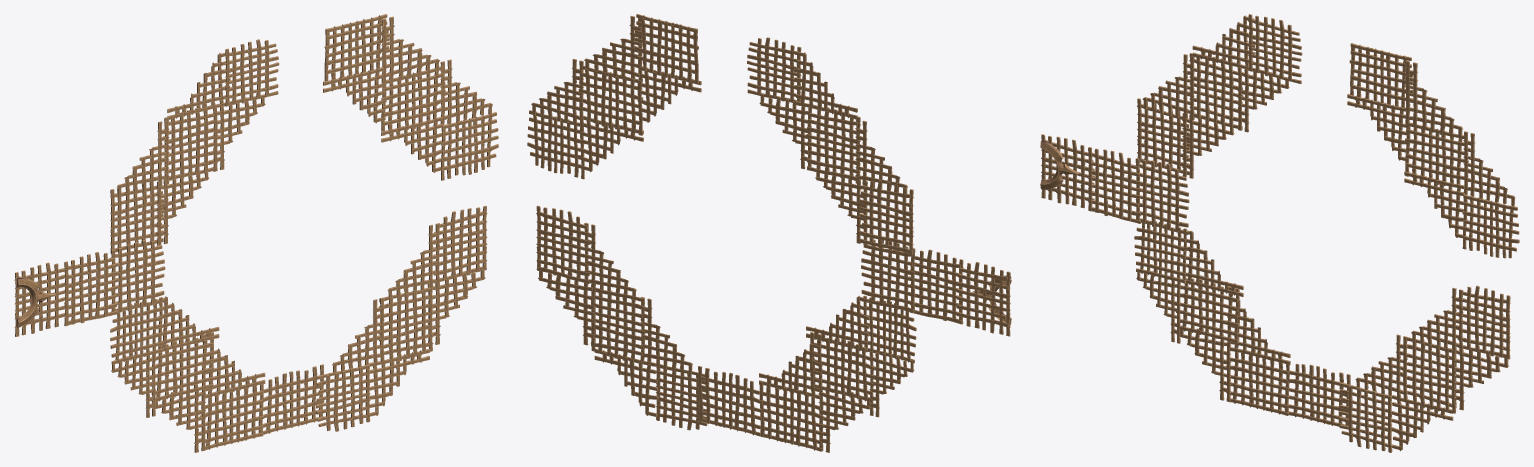
File: Dn_HLLvl2_FloorGrate_A.fbx
3 views of the same model, side by side, from view 1: azimuth 30°, elevation 25°; view 2: azimuth 150°, elevation 25°; view 3: azimuth 330°, elevation 25° (orthographic).
Visible parts, largest first — view 1: Dn_HLLvl2_FloorGrate_A; view 2: Dn_HLLvl2_FloorGrate_A; view 3: Dn_HLLvl2_FloorGrate_A.
Part boxes in pixels (left/top/right/bottom): Dn_HLLvl2_FloorGrate_A: left=14, top=14, right=498, bottom=452; Dn_HLLvl2_FloorGrate_A: left=527, top=14, right=1011, bottom=452; Dn_HLLvl2_FloorGrate_A: left=1040, top=14, right=1519, bottom=452.
Size of the model in its own units: 4546 by 3692 by 68.28.
